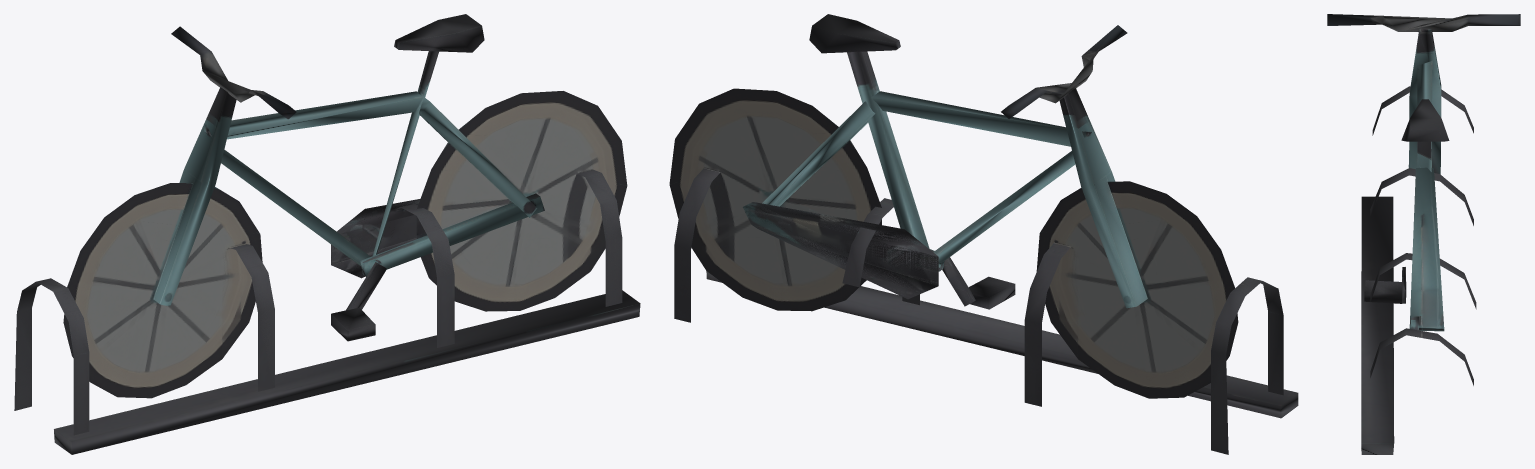
File: bike_rack.fbx
3 views of the same model, side by side, from view 1: azimuth 30°, elevation 25°; view 2: azimuth 150°, elevation 25°; view 3: azimuth 270°, elevation 25° (orthographic). The views are drawn at different scales.
Visible parts, largest first — view 1: Mesh_0; view 2: Mesh_0; view 3: Mesh_0.
Boxes of the visible parts, x1,y1,x2,y2 form: Mesh_0: [14, 14, 640, 454]; Mesh_0: [669, 14, 1298, 454]; Mesh_0: [1327, 14, 1520, 454].
Size of the model in its own units: 95.17 by 49.22 by 30.37.
1 material, 1 textured.
